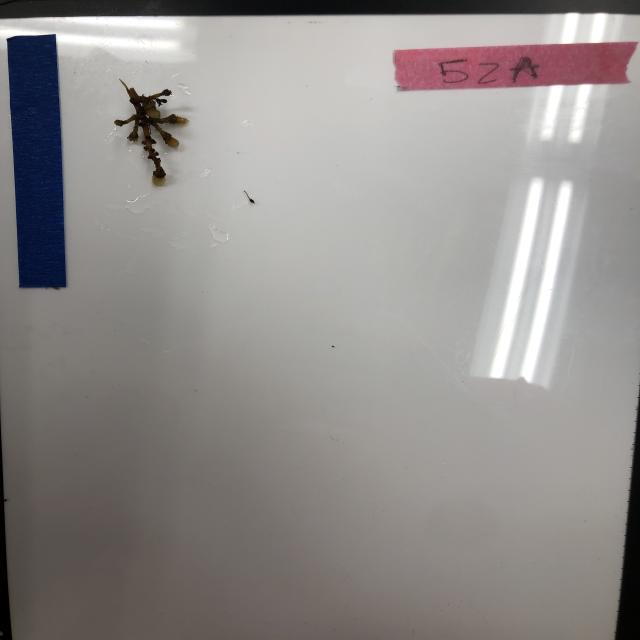index: (394, 39, 639, 95)
measure_label: (7, 33, 69, 289)
rachis_cluster: (110, 76, 193, 186)
